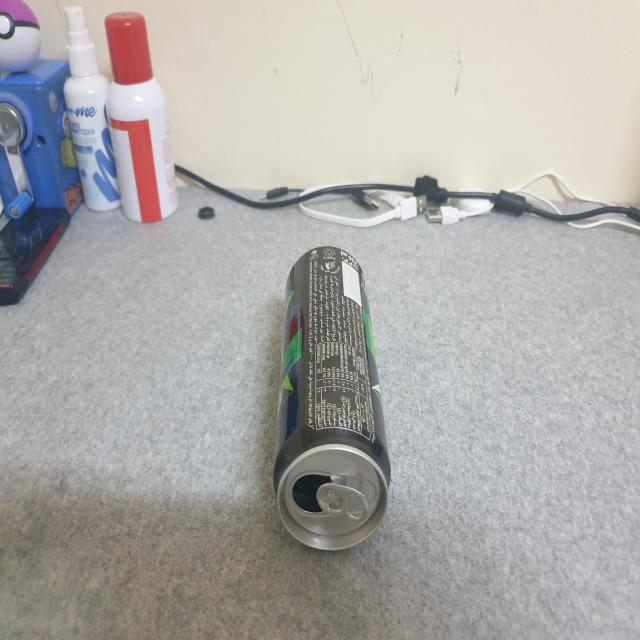non-organic waste: (258, 230, 395, 566)
